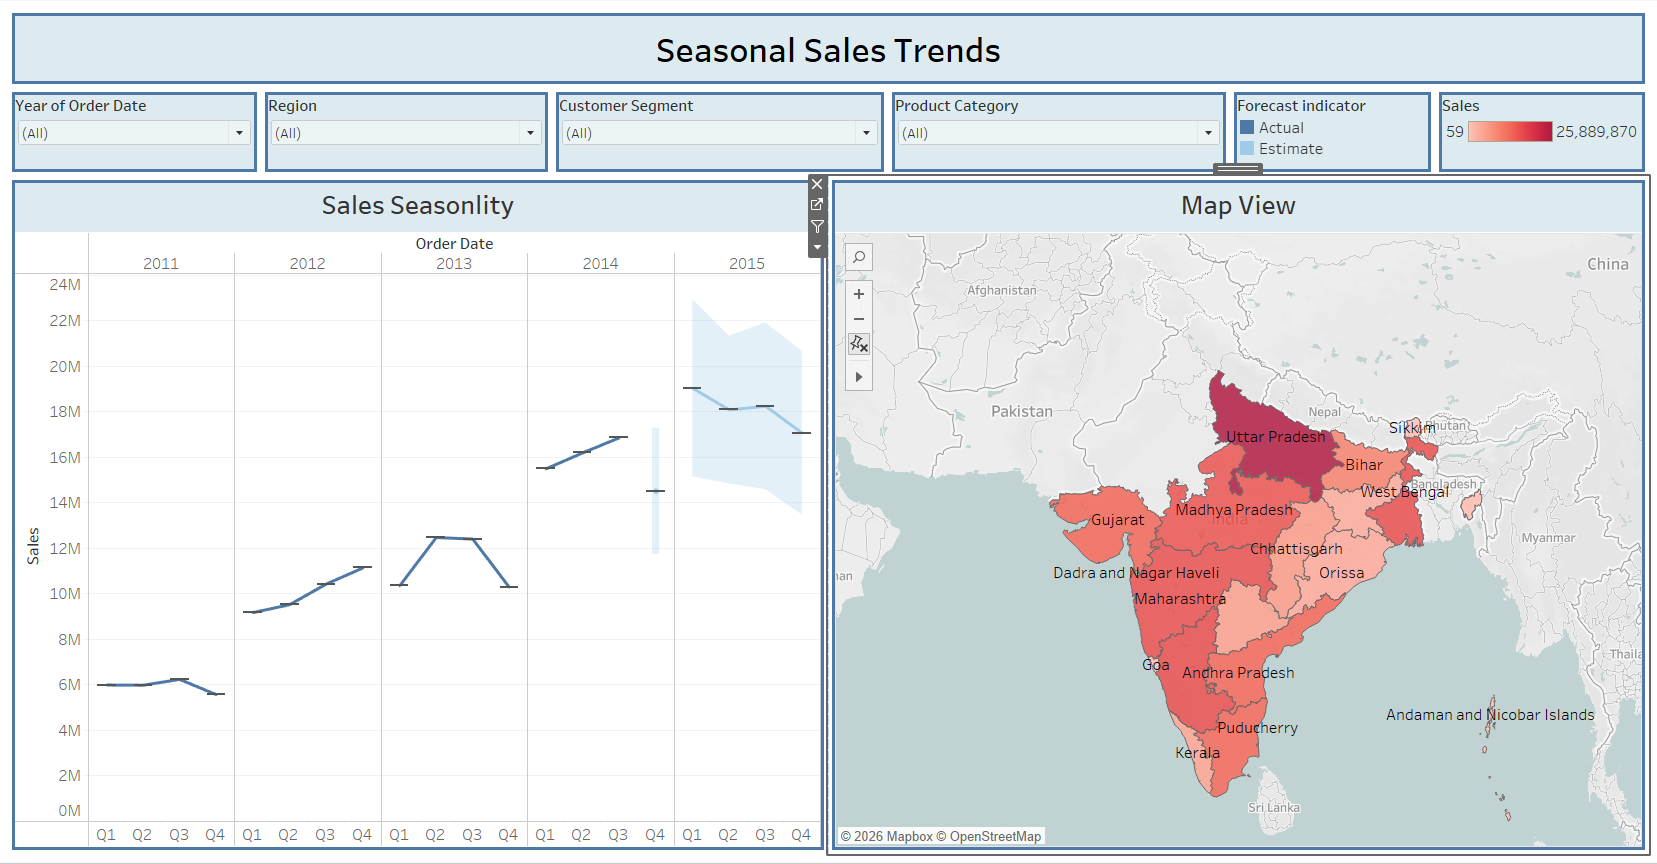

This screenshot's page, from the dashboard's own definition file:
{"tool":"tableau","page":{"name":"Seasonal Sales Trends","canvas":[1000,1000],"units":"permille","ordinal":4},"visuals":[{"type":"text","box":[4.8,10,990.3,91.1]},{"type":"filter","title":"Sales Seasonlity","param":"[federated.0lc2qp609r7qte17zzql31nmvyj1].[yr:Order Date:ok]","box":[4.8,101,152.6,102.1]},{"type":"filter","title":"Sales Seasonlity","param":"[federated.0lc2qp609r7qte17zzql31nmvyj1].[none:Region:nk]","box":[157.4,101,175.6,102.1]},{"type":"filter","title":"Sales Seasonlity","param":"[federated.0lc2qp609r7qte17zzql31nmvyj1].[none:Customer Segment:nk]","box":[333,101,202.8,102.1]},{"type":"filter","title":"Sales Seasonlity","param":"[federated.0lc2qp609r7qte17zzql31nmvyj1].[none:Product Category:nk]","box":[535.8,101,206.4,102.1]},{"type":"legend","title":"Sales Seasonlity","param":"[federated.0lc2qp609r7qte17zzql31nmvyj1].[none:Forecast Indicator:nk]","box":[742.2,101,123.7,102.1]},{"type":"legend","title":"Map View","param":"[federated.0lc2qp609r7qte17zzql31nmvyj1].[sum:Sales:qk]","box":[865.9,101,129.2,102.1]},{"type":"worksheet","title":"Sales Seasonlity","mark":"Automatic","rows":["Sales"],"cols":["Order Date","Order Date"],"box":[4.8,203.1,495.1,786.9]},{"type":"worksheet","title":"Map View","mark":"Automatic","box":[499.9,203.1,495.2,786.9]}]}

Visuals, with their boxes on the dashboard's canvas, which has no fixed pixel size, in thousandths of its width and height (x1, y1, x2, y2). These are canvas units, not pixel positions in the 1657x864 screenshot, which may show the page scaled, cropped or inside an application window:
text: <region>5, 10, 995, 101</region>
"Sales Seasonlity" filter: <region>5, 101, 157, 203</region>
"Sales Seasonlity" filter: <region>157, 101, 333, 203</region>
"Sales Seasonlity" filter: <region>333, 101, 536, 203</region>
"Sales Seasonlity" filter: <region>536, 101, 742, 203</region>
"Sales Seasonlity" legend: <region>742, 101, 866, 203</region>
"Map View" legend: <region>866, 101, 995, 203</region>
"Sales Seasonlity" worksheet: <region>5, 203, 500, 990</region>
"Map View" worksheet: <region>500, 203, 995, 990</region>
